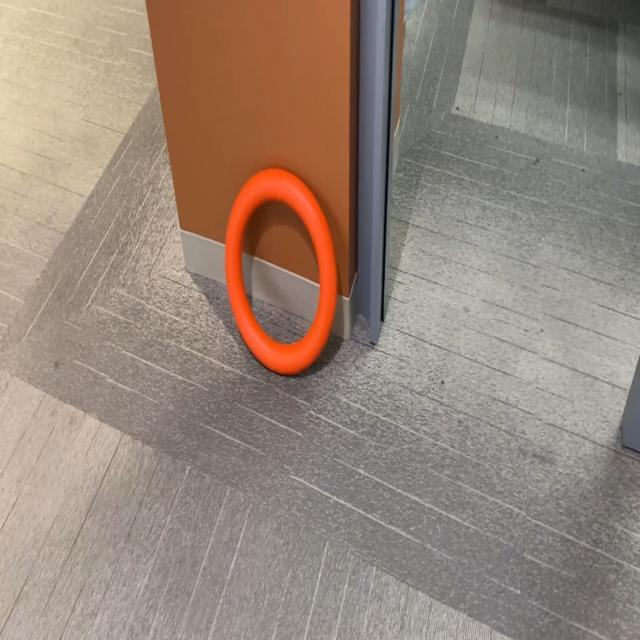note: (222, 164, 343, 380)
